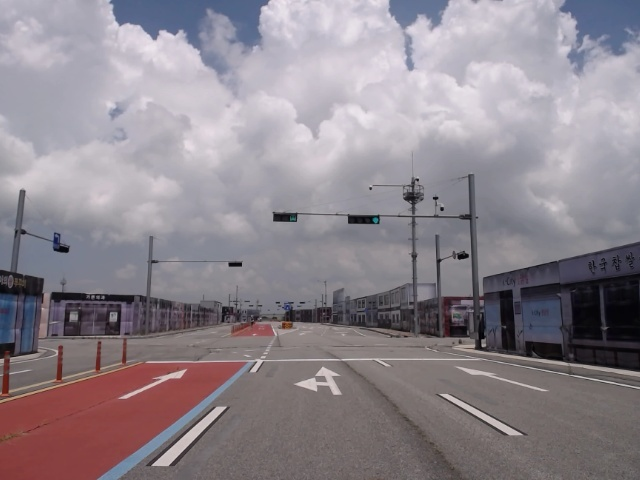straight_green_4: (347, 215, 381, 226)
